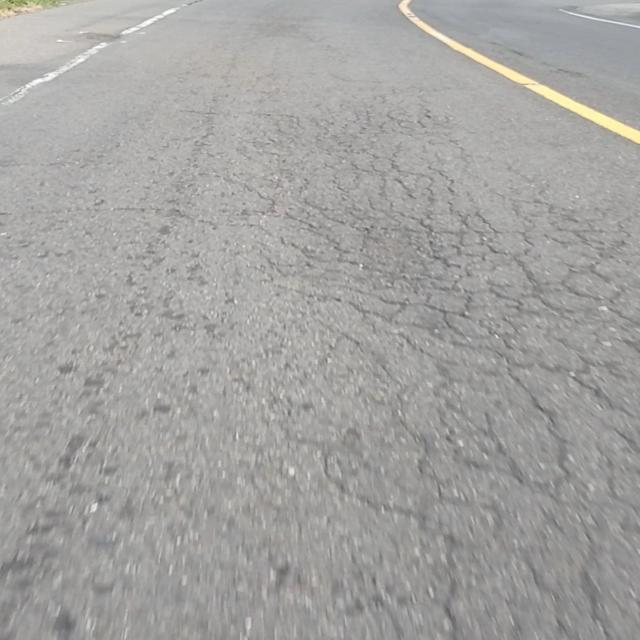Retak Buaya: (238, 95, 640, 640)
